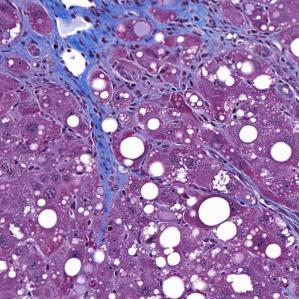fibrosis: (13, 0, 119, 66), (131, 0, 237, 49), (75, 90, 126, 190)
